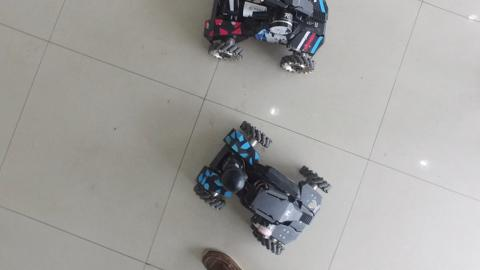chariot: (186, 117, 340, 258), (198, 1, 339, 78)
